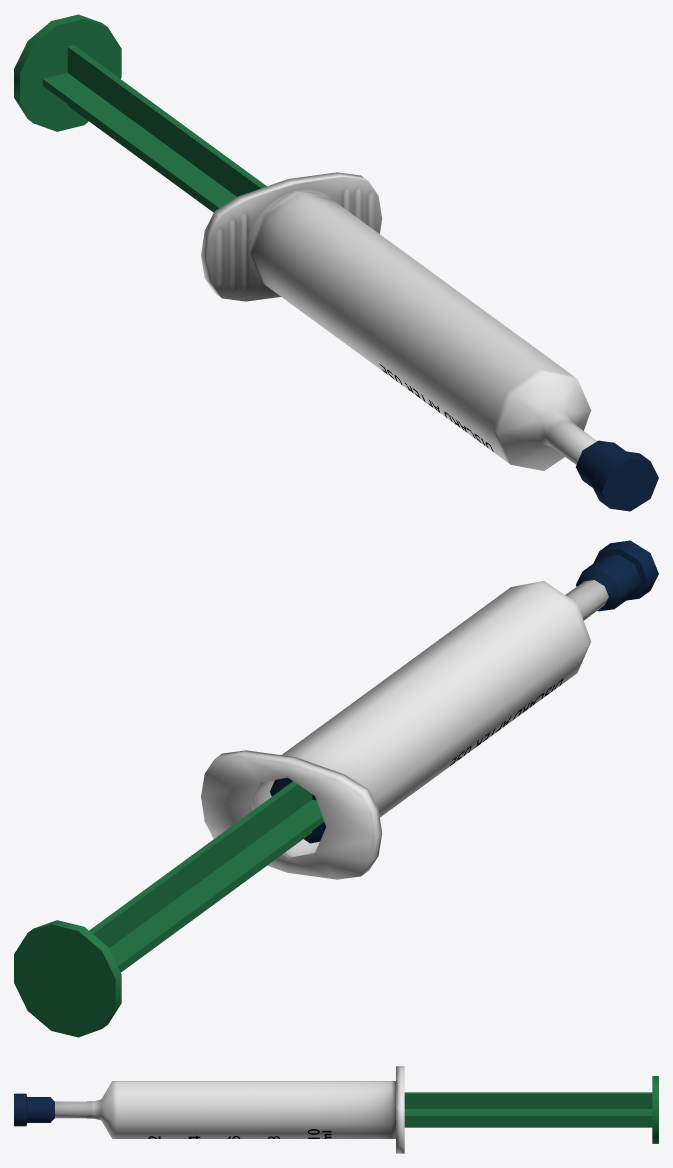
Rendered from syringe_with_water_s.fbx.
3 renders of one model, top to bottom at view 1: azimuth 30°, elevation 25°; view 2: azimuth 150°, elevation 25°; view 3: azimuth 270°, elevation 25°, orthographic. The views are drawn at different scales.
Visible parts, largest first — view 1: syringe_with_water._base, syringe_with_water_Plunger, syringe_with_water_Cup; view 2: syringe_with_water._base, syringe_with_water_Plunger, syringe_with_water_Cup; view 3: syringe_with_water._base, syringe_with_water_Plunger, syringe_with_water_Cup.
Boxes of the visible parts, x1,y1,x2,y2 form: syringe_with_water._base: (201,172,596,470); syringe_with_water_Plunger: (14,14,266,212); syringe_with_water_Cup: (576,440,658,511); syringe_with_water._base: (201,580,608,879); syringe_with_water_Plunger: (14,777,325,1037); syringe_with_water_Cup: (576,540,658,611); syringe_with_water._base: (55,1066,404,1153); syringe_with_water_Plunger: (404,1076,658,1143); syringe_with_water_Cup: (14,1093,54,1126).
Bounding box in the file's own units: 0.0403 × 0.0244 × 0.2272.
